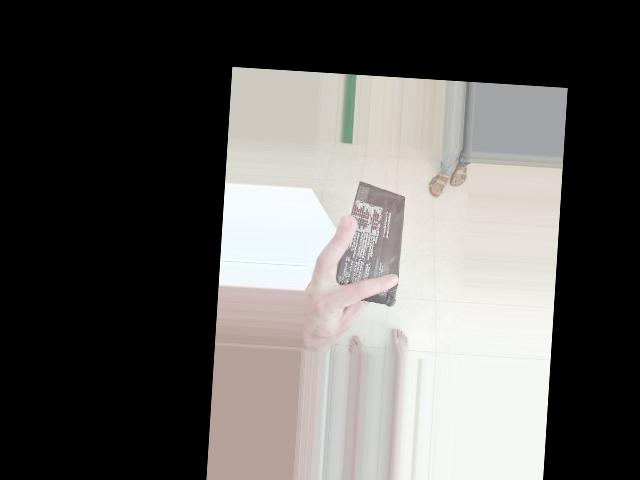chocolate: (340, 201, 472, 284)
